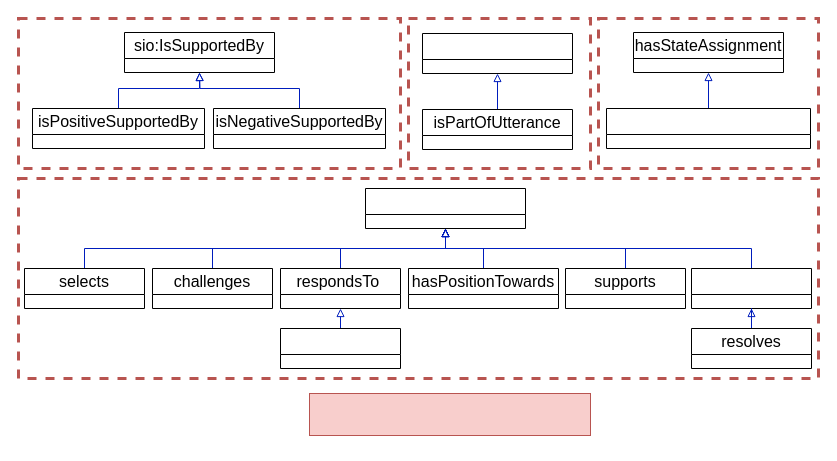
Some shapes in this 837 by 461 pixel diagram are drawn without their labels. Here are the shapes that lost their labels. From the top down, the centre of each, then its label:
[497,53]: sio:`is proper part of`
[708,128]: hasCurrentStateAssignment
[445,208]: del:responseTo
[751,288]: addresses
[340,348]: answers
[449,414]: sio: semanticscience Integrated ontology del: Deliberation ontology
